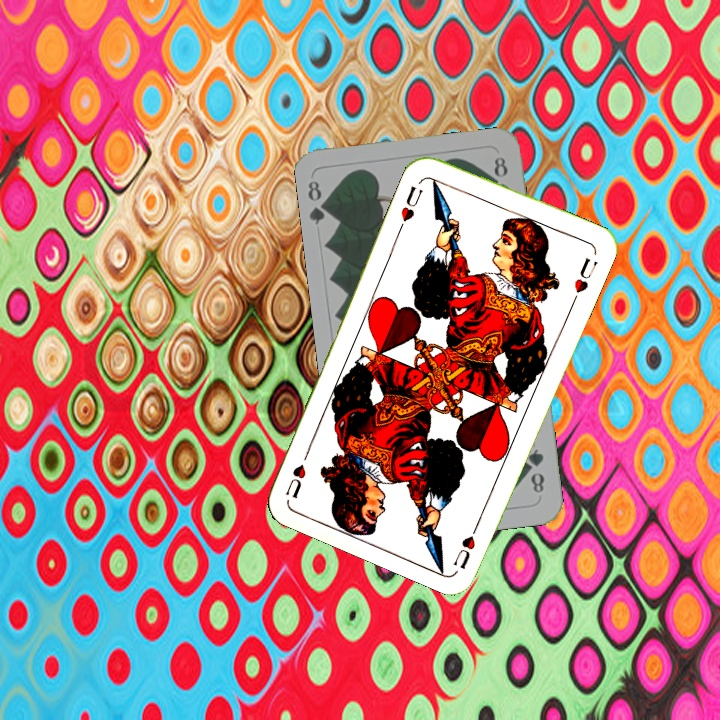G8: (304, 177, 334, 227), (523, 444, 547, 496)
HU: (449, 516, 483, 572), (396, 182, 426, 224)
